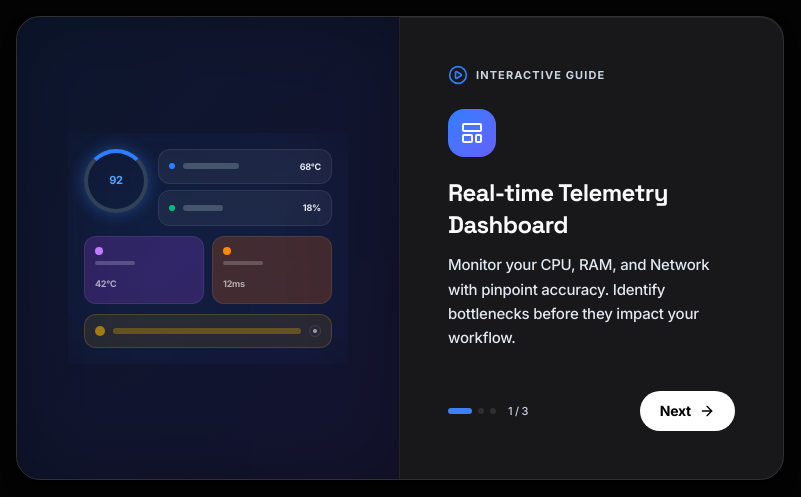
Scenario: OnboardingModal › shows 'Get Started' button on the last step
The width and height of the screenshot is (801, 497).
Step 1 → 2
Click the button "Next": (687, 411) [640,391,735,431]
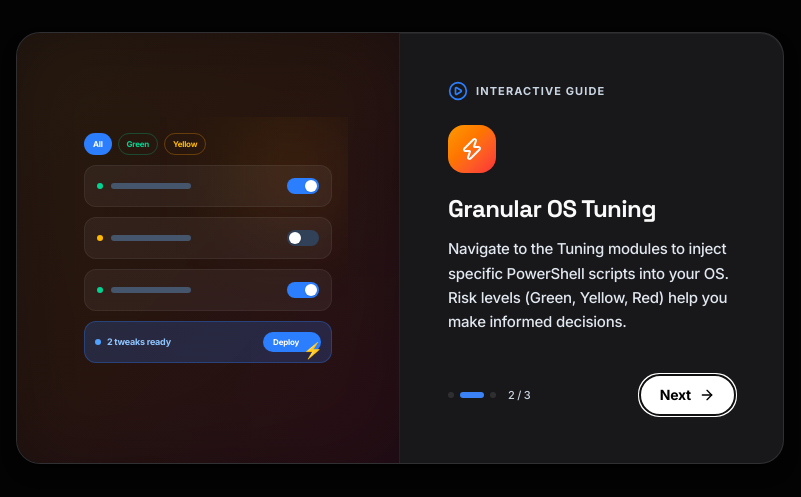
Step 2 → 3 (last)
Click the button "Next": (687, 395) [640,375,735,415]
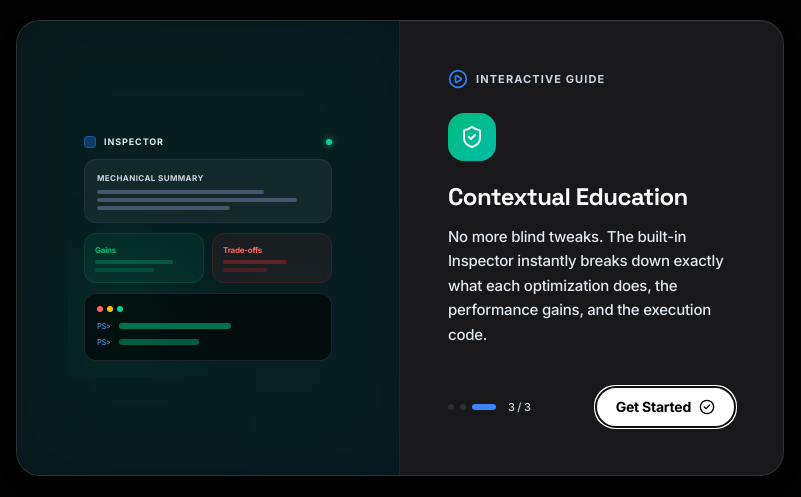
Expected: the button "Get Started" is shown, [596,387,735,427]
